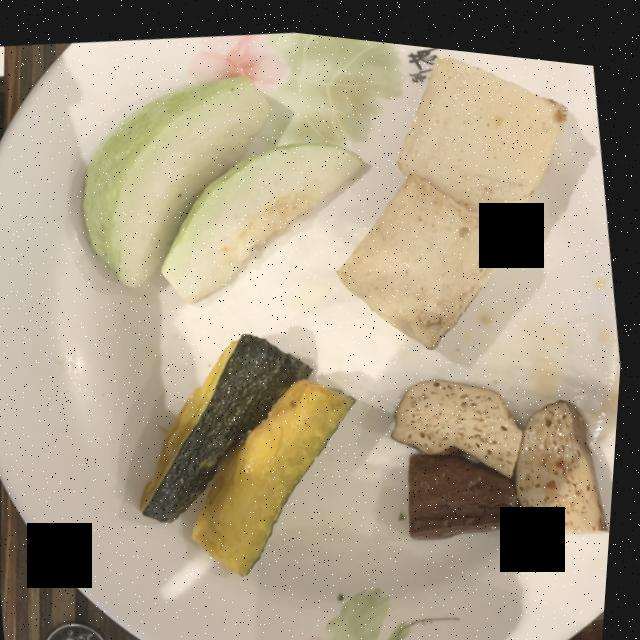coin: (54, 621, 114, 640)
creamy tofu -without sauce-: (340, 47, 568, 339)
firm tofu: (396, 369, 614, 529)
guava -sliced-: (85, 71, 364, 299)
pumpkin: (147, 328, 359, 569)
